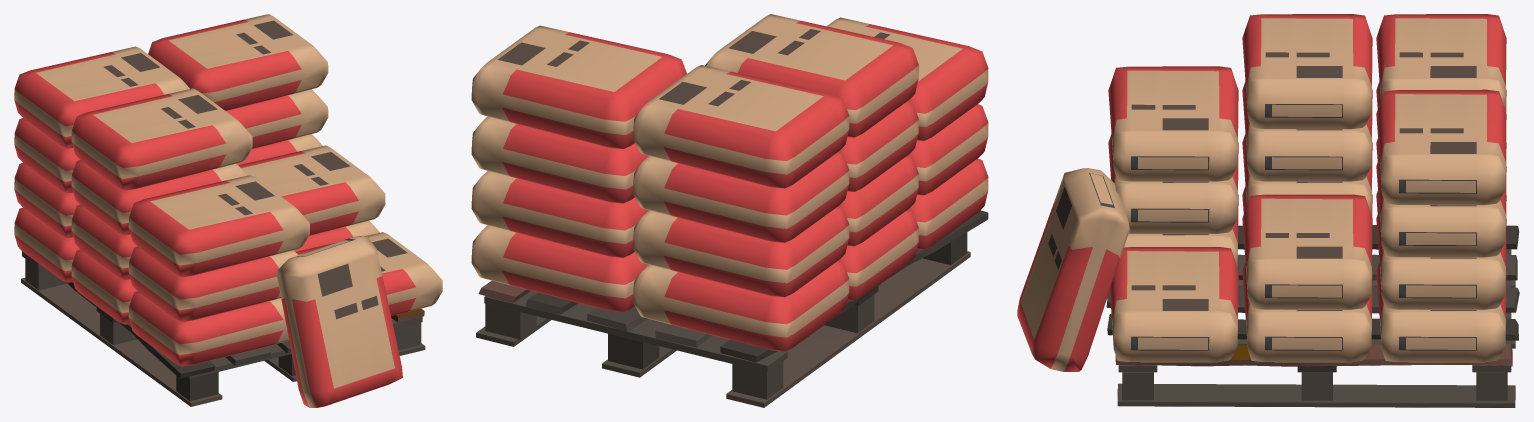
Rendered from SM_PalletteCementBags_B_B.fbx.
3 renders of one model, left to right at view 1: azimuth 30°, elevation 25°; view 2: azimuth 150°, elevation 25°; view 3: azimuth 270°, elevation 25°, orthographic. The views are drawn at different scales.
Visible parts, largest first — view 1: SM_PalletteCementBags_B_B; view 2: SM_PalletteCementBags_B_B; view 3: SM_PalletteCementBags_B_B.
Part boxes in pixels (x1,y1,x2,y2): SM_PalletteCementBags_B_B: (14,14,442,407); SM_PalletteCementBags_B_B: (471,14,988,407); SM_PalletteCementBags_B_B: (1017,14,1519,407).
Size of the model in its own units: 111 by 88.43 by 156.
